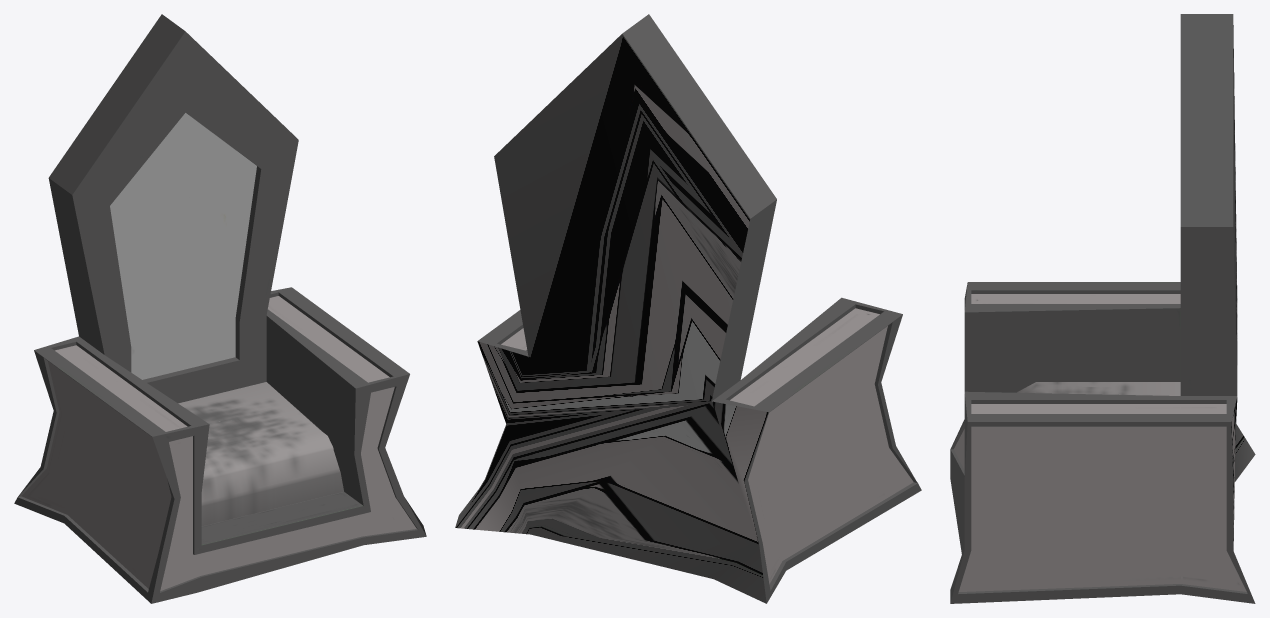
The model's file is Throne.FBX.
3 renders of one model, left to right at view 1: azimuth 30°, elevation 25°; view 2: azimuth 150°, elevation 25°; view 3: azimuth 270°, elevation 25°, orthographic. The views are drawn at different scales.
Parts seen in each view (by area): view 1: Box023; view 2: Box023; view 3: Box023.
Boxes of the visible parts, left/top/right/bottom form: Box023: left=14, top=14, right=426, bottom=603; Box023: left=455, top=14, right=921, bottom=603; Box023: left=950, top=14, right=1255, bottom=603.
Size of the model in its own units: 35.04 by 56.31 by 30.22.
1 material, 1 textured.
